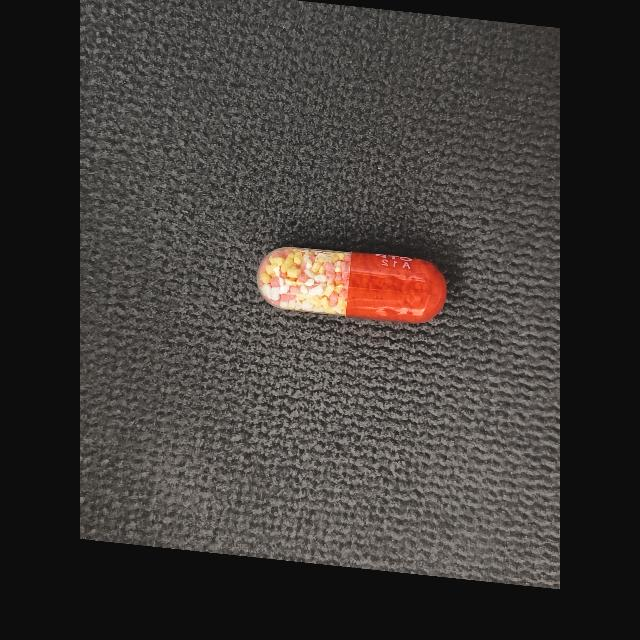Intact Capsule: (257, 247, 447, 323)
